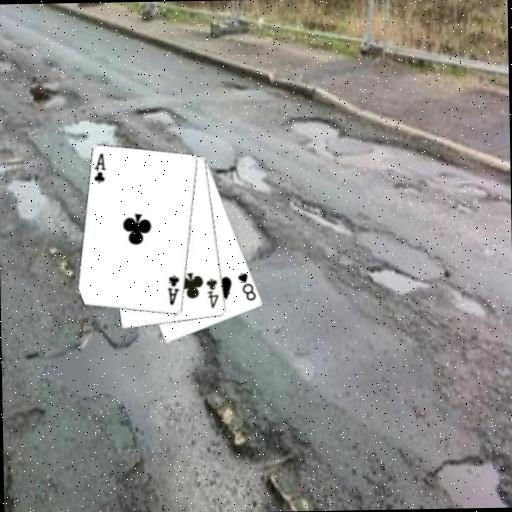4C: (203, 276, 221, 310)
8S: (235, 270, 258, 303)
AC: (165, 273, 182, 307), (91, 151, 108, 185)
